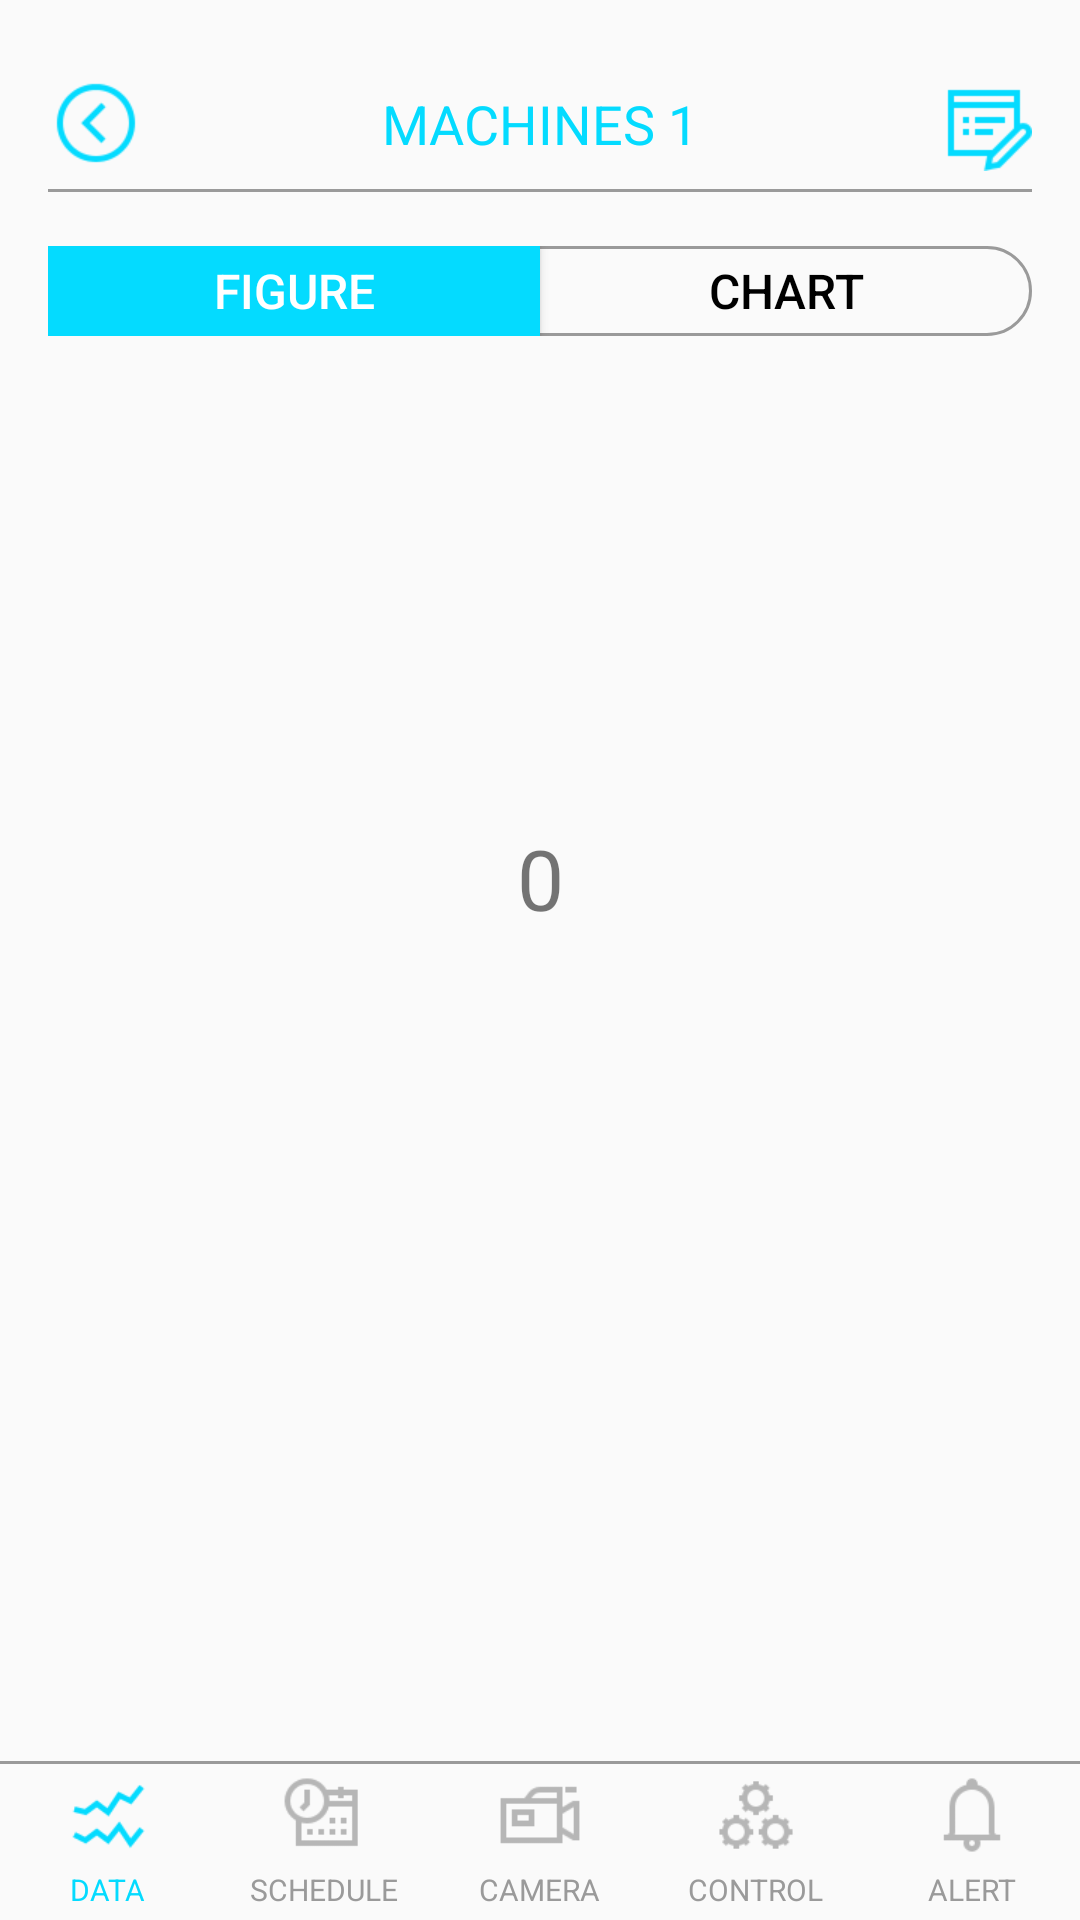

Screen size 1080×1920. Icon name, then its center in pixels as (x,y):
back to: (96,123)
edit property: (989,130)
